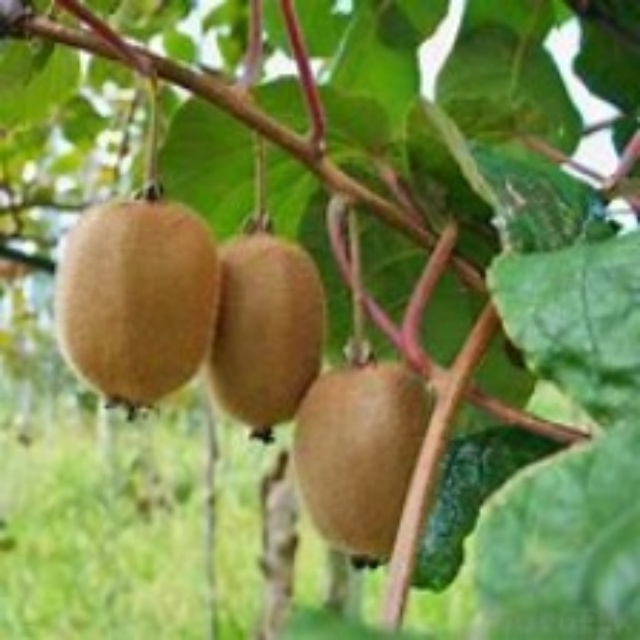kiwi: (63, 193, 215, 421), (186, 231, 335, 436), (288, 375, 429, 562)
